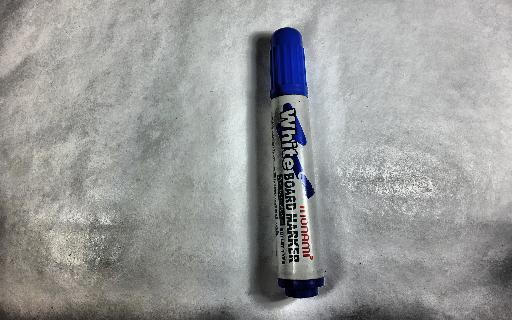marcador azul: (270, 27, 324, 298)
